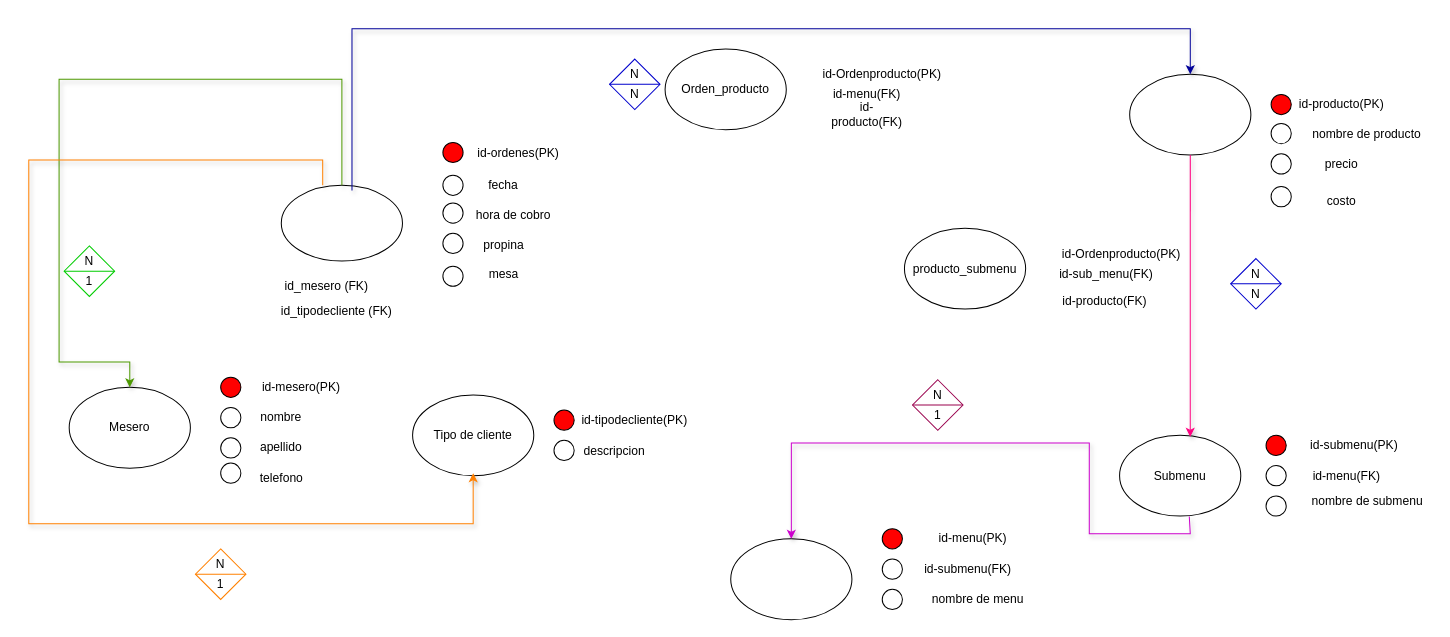
Some shapes in this 1450 by 637 pixel diagram are drawn without their labels. Here are the shapes that lost their labels. From the top down, the centre of each, then its label:
(1190,114): producto
(341,222): Ordenes
(791,579): menu
